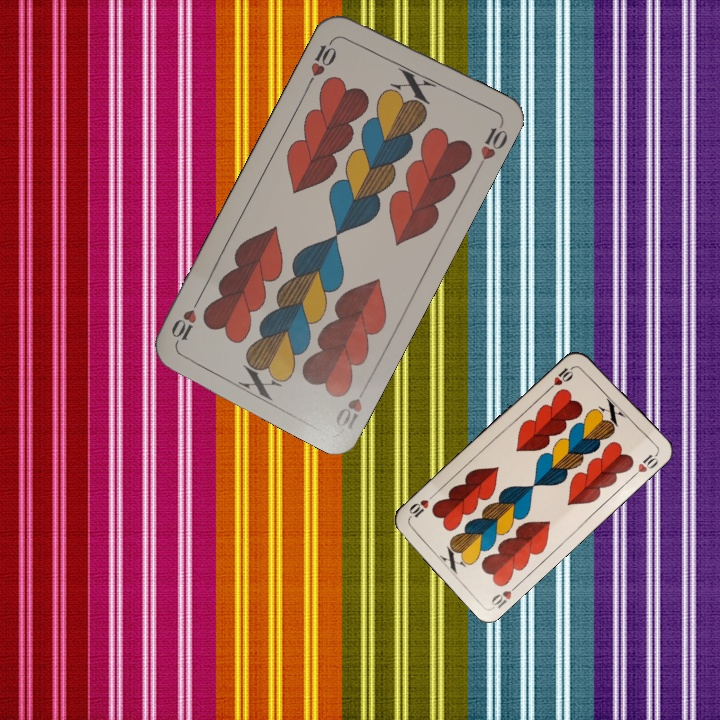H10: (303, 33, 340, 87), (331, 392, 365, 432), (487, 579, 522, 611), (544, 362, 578, 393)
